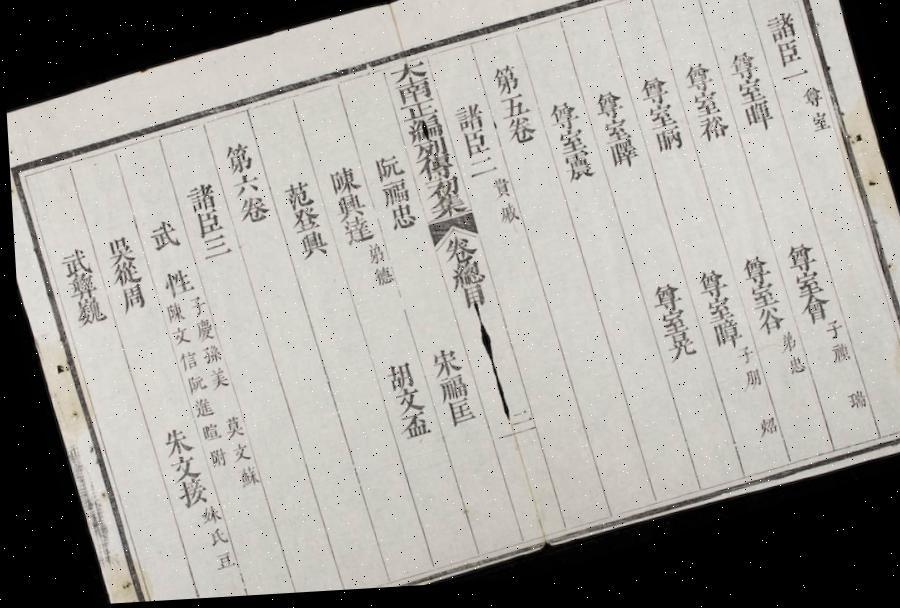c: (140, 214, 181, 256), (214, 139, 256, 180), (399, 116, 445, 152), (775, 246, 816, 286), (540, 102, 582, 141), (419, 347, 460, 386), (434, 236, 477, 273), (50, 243, 91, 281), (64, 293, 105, 331), (759, 17, 800, 55), (555, 154, 596, 192), (440, 262, 484, 297), (410, 156, 455, 190), (656, 336, 696, 374), (686, 272, 726, 310), (790, 300, 832, 336), (642, 284, 681, 322), (676, 66, 715, 104), (702, 323, 742, 360), (177, 180, 217, 217), (165, 476, 205, 513), (320, 166, 360, 203), (586, 93, 626, 130), (722, 55, 762, 92), (288, 230, 329, 266), (484, 66, 522, 104), (732, 260, 770, 298), (151, 424, 190, 461), (375, 363, 414, 400), (230, 194, 270, 230), (632, 80, 672, 116), (446, 104, 486, 140), (334, 218, 374, 254), (384, 61, 430, 92), (422, 195, 466, 227), (736, 107, 775, 143), (499, 118, 538, 154), (96, 232, 135, 268), (366, 154, 405, 190), (275, 180, 314, 216), (390, 414, 430, 449), (154, 266, 192, 302), (739, 287, 778, 322), (418, 177, 462, 208), (390, 81, 434, 112), (784, 276, 824, 310), (746, 311, 784, 346), (192, 233, 232, 266), (109, 281, 146, 316), (186, 208, 224, 242), (695, 300, 733, 334), (328, 194, 366, 228), (640, 107, 678, 141), (602, 144, 640, 178), (769, 45, 805, 80), (394, 101, 439, 129), (730, 84, 767, 118), (455, 132, 492, 166), (283, 207, 321, 240), (428, 377, 466, 410), (450, 288, 488, 321), (58, 270, 96, 303), (406, 140, 449, 169), (160, 452, 196, 486), (437, 401, 473, 435), (686, 96, 722, 130), (374, 181, 410, 215), (550, 132, 588, 164), (692, 121, 730, 153), (381, 206, 416, 240), (650, 312, 686, 345), (493, 96, 530, 128), (384, 390, 421, 422), (596, 122, 632, 154), (104, 258, 140, 290), (648, 132, 684, 164), (461, 158, 498, 189), (224, 172, 260, 203), (775, 72, 812, 98), (484, 180, 512, 210), (812, 327, 842, 354), (796, 94, 824, 122), (768, 338, 796, 366), (732, 373, 760, 401), (156, 300, 184, 328), (820, 348, 848, 376), (186, 317, 213, 346), (228, 466, 255, 494), (836, 396, 864, 423), (804, 119, 832, 146), (214, 415, 240, 444), (200, 366, 226, 394), (189, 504, 217, 530), (170, 348, 196, 376), (178, 372, 204, 399), (192, 420, 218, 447), (358, 245, 384, 272), (184, 395, 210, 422), (492, 206, 518, 233), (747, 422, 774, 448), (164, 324, 190, 351), (202, 550, 230, 575), (366, 268, 392, 294), (776, 361, 802, 387), (194, 344, 220, 370), (196, 526, 223, 551), (221, 442, 246, 468), (200, 446, 224, 473), (725, 352, 752, 376), (180, 294, 204, 320), (502, 410, 525, 432)
